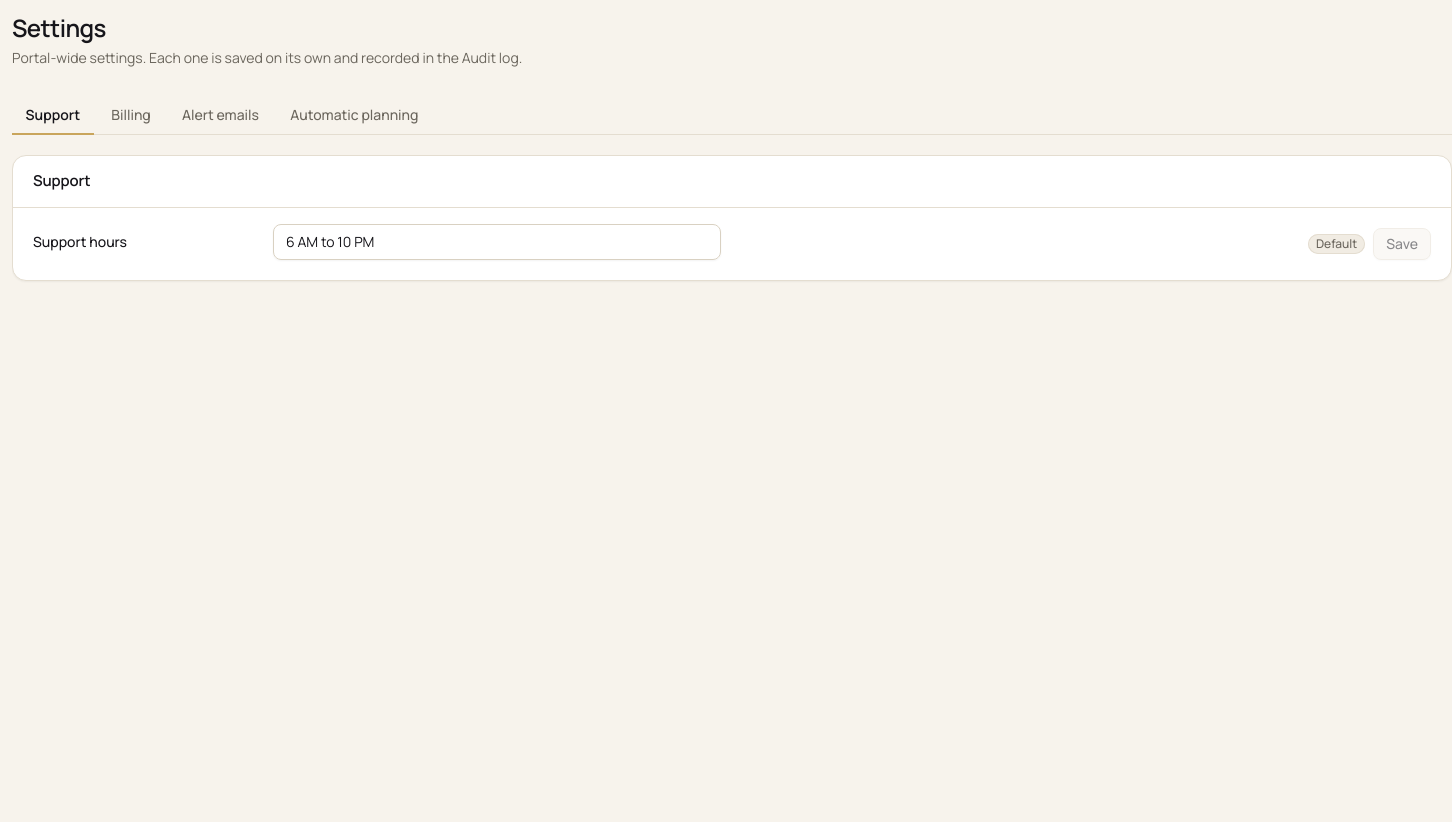
it: settings › saves one key and shows its validation message
Step 1. Click the tab "Billing" → (131, 116), box x1=98 y1=96 x2=164 y2=135
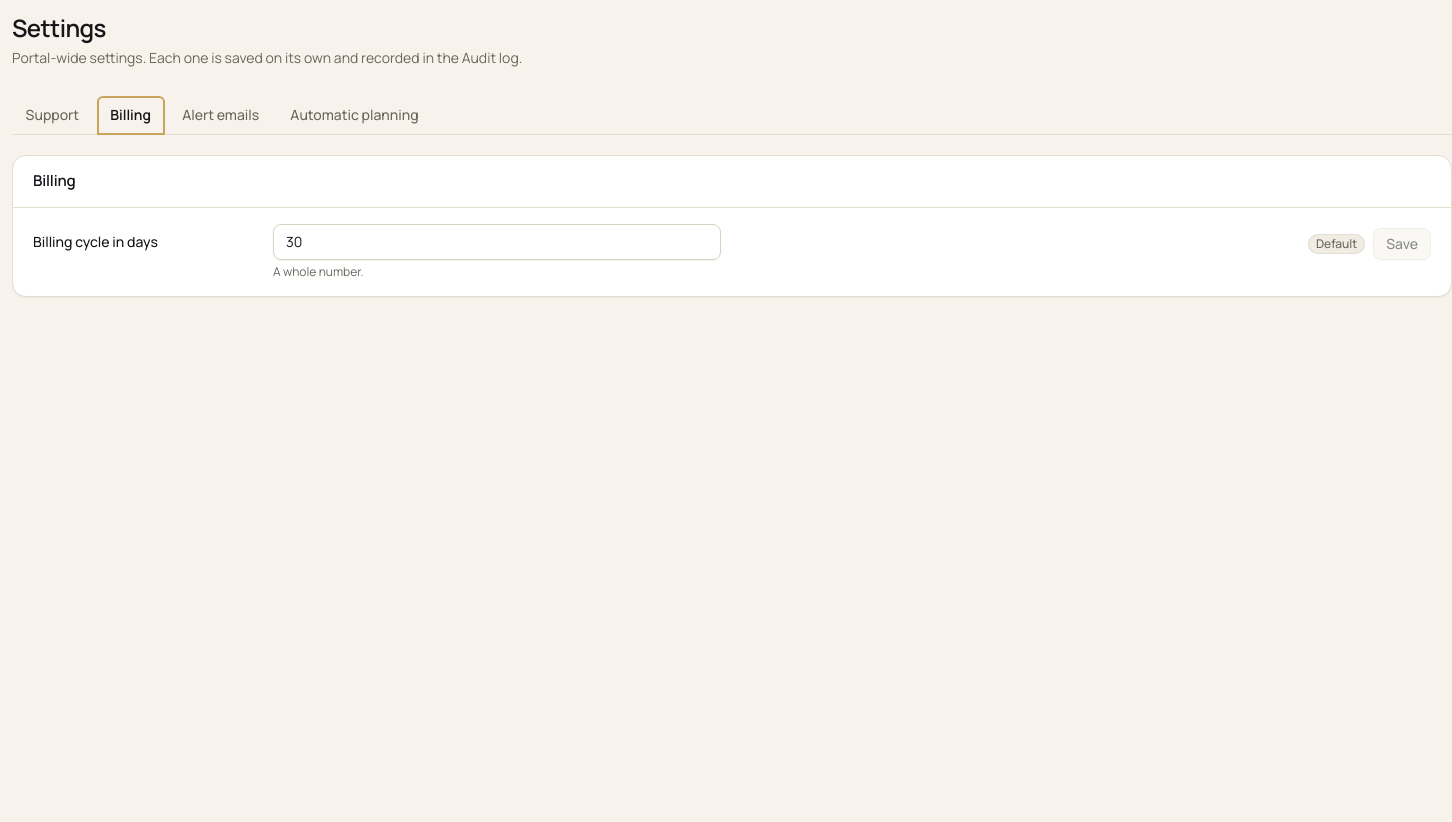
Expected: the text "Default" is shown once, x1=1308 y1=234 x2=1365 y2=254
Step 2. Replace the text in the number field labelled "Billing cycle in days" with "999" → (497, 242), box x1=273 y1=224 x2=721 y2=260
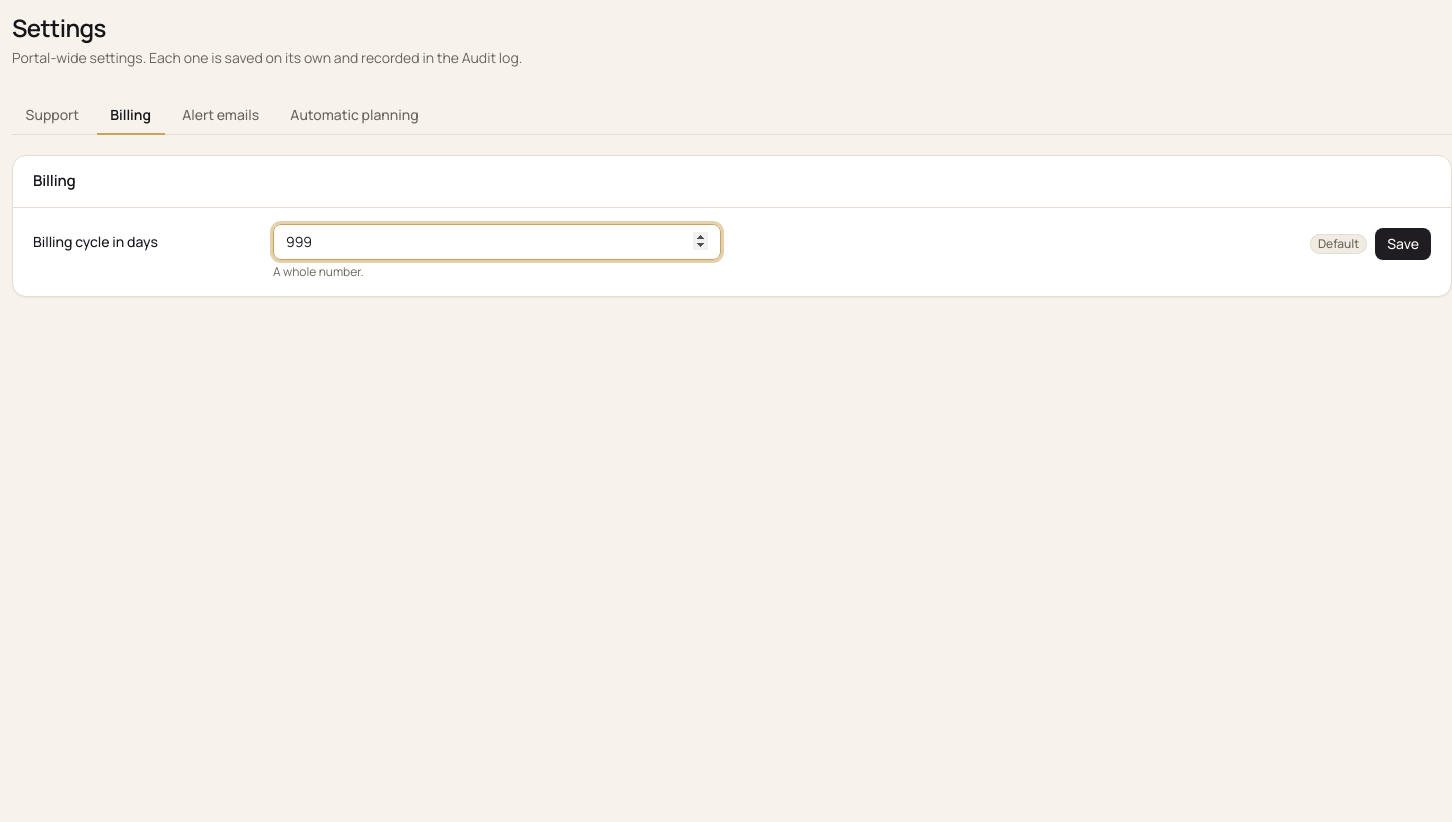
Step 3. Click the button with aria-label "Save Billing cycle in days" → (1403, 244), box x1=1375 y1=228 x2=1431 y2=260
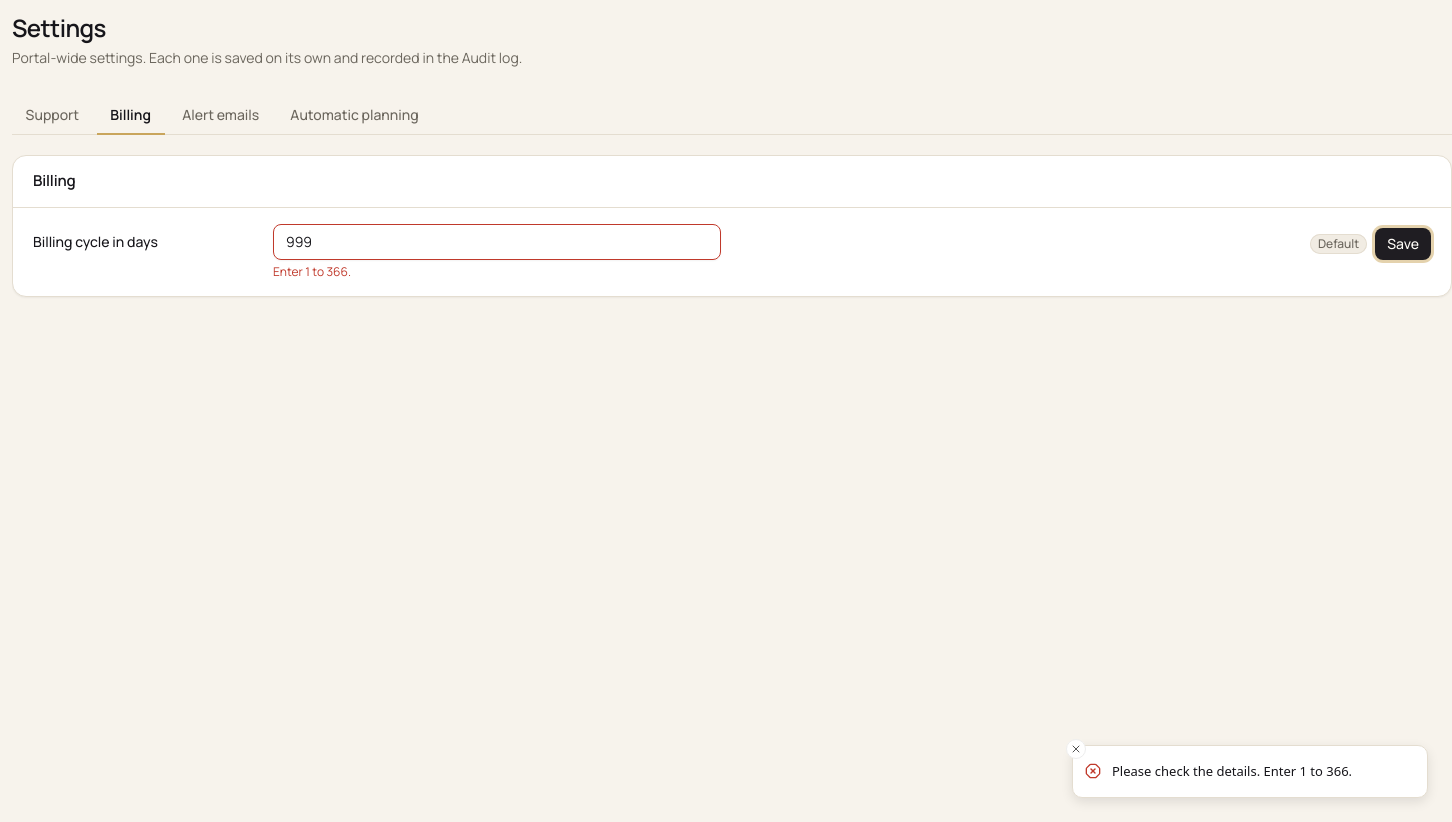
Now the text "Enter 1 to 366." is shown, box x1=273 y1=262 x2=351 y2=280
